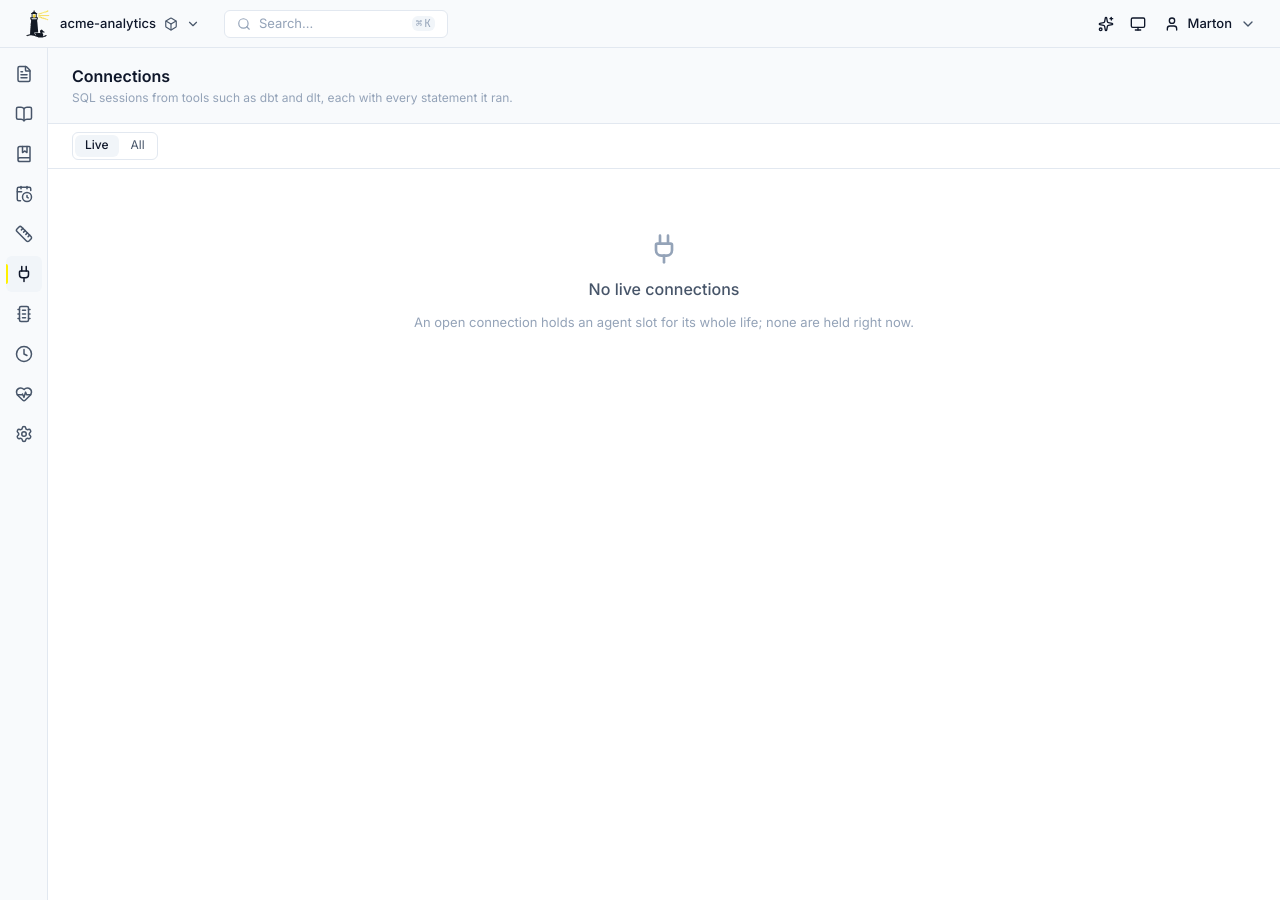
Scenario: SessionsPage › shows a different empty state on the All tab
The image size is (1280, 900).
Click the tab "All" at (138, 146), box [120,135,155,157]
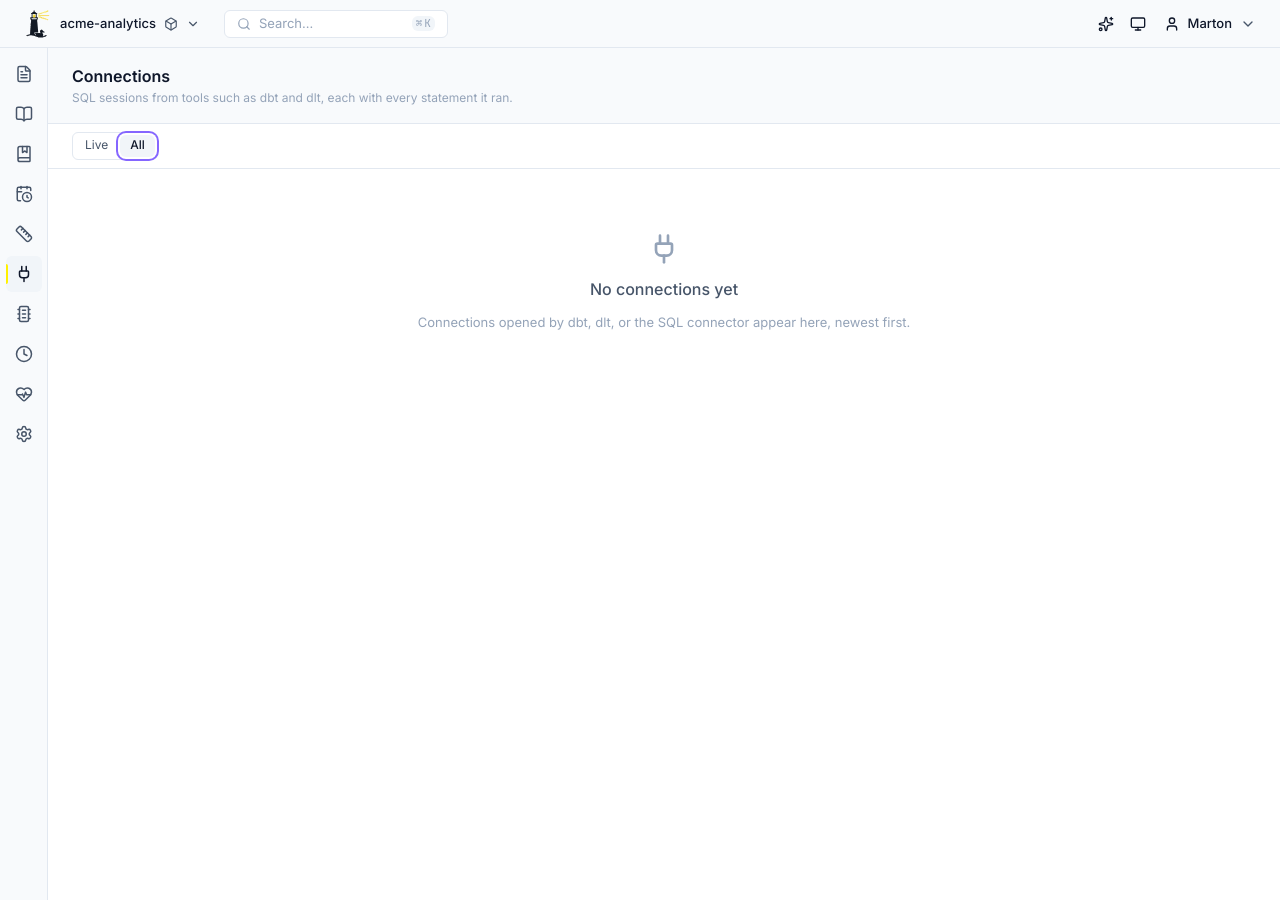
Result: the text "No connections yet" is shown at [590,277,738,301]
